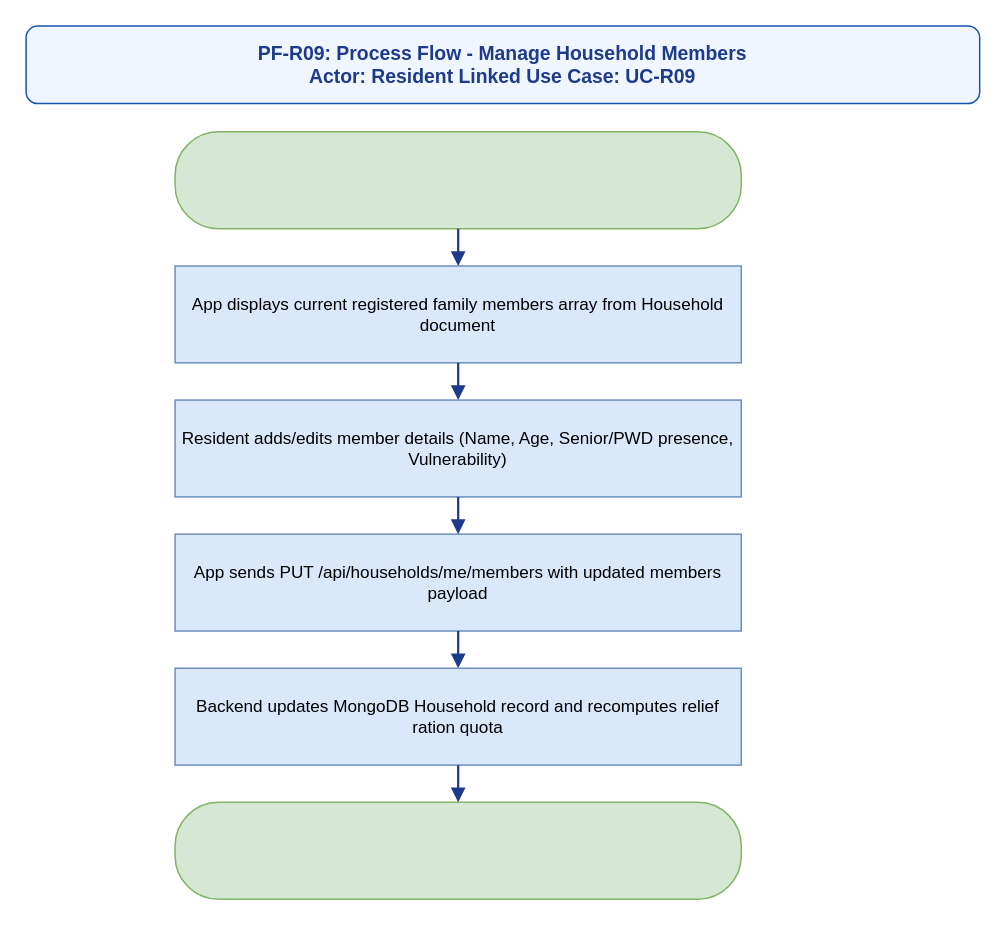
The diagram is 1006 pixels wide and 925 high, and some of its shapes have lost their labels. Each missing label, with the centre of its shape:
"END: Household member roster updated; quota synced to QR Pass" goes at (x=457, y=850).
"START: Resident opens SettingsScreen (Household Roster)" goes at (x=457, y=179).
